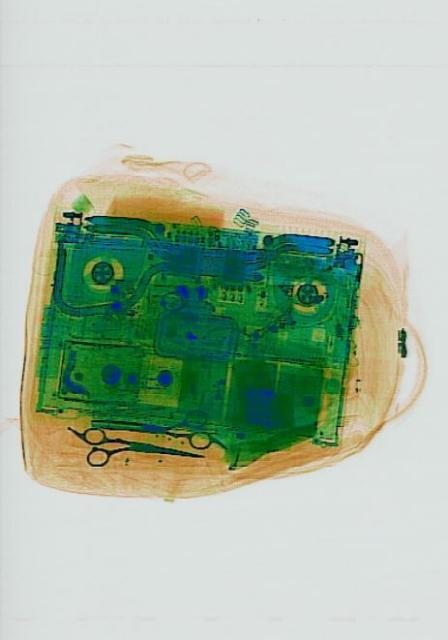Scissors: (79, 424, 206, 476), (88, 400, 211, 450)
